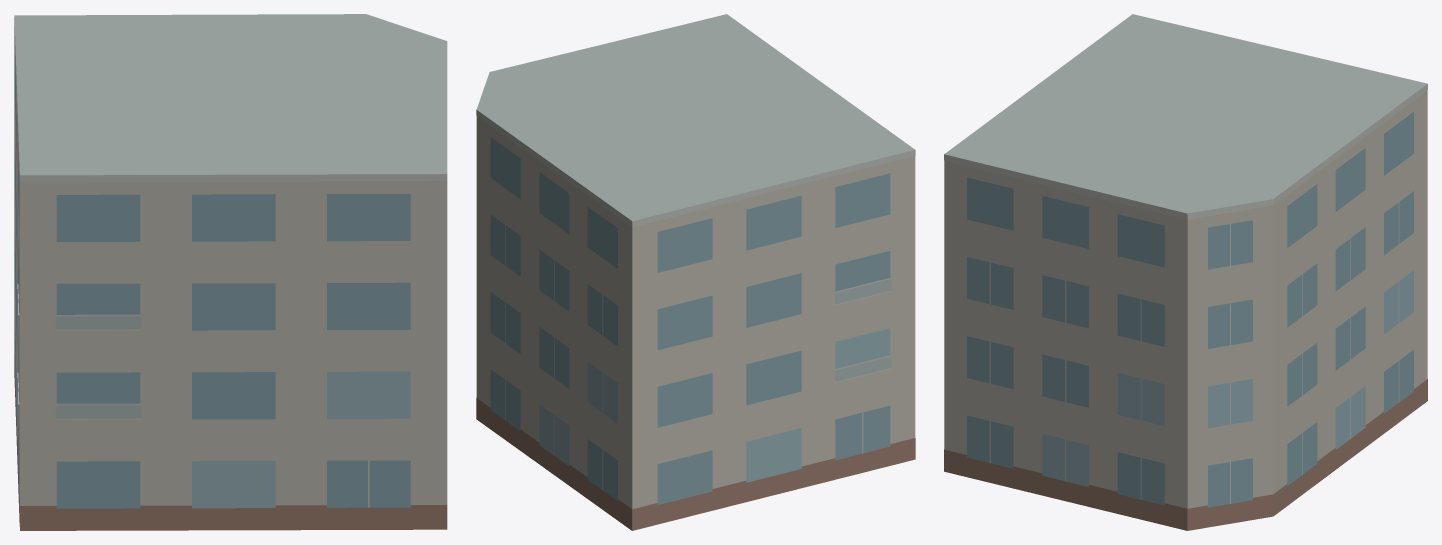
The model's file is survey-upis-32913993.glb.
3 renders of one model, left to right at view 1: azimuth 30°, elevation 25°; view 2: azimuth 150°, elevation 25°; view 3: azimuth 270°, elevation 25°, orthographic. The views are drawn at different scales.
Parts seen in each view (by area): view 1: survey-upis-32913993.tmp; view 2: survey-upis-32913993.tmp; view 3: survey-upis-32913993.tmp.
Boxes of the visible parts, bbox=[...] form: survey-upis-32913993.tmp: bbox=[14, 14, 447, 530]; survey-upis-32913993.tmp: bbox=[476, 14, 915, 530]; survey-upis-32913993.tmp: bbox=[944, 14, 1427, 530].
Size of the model in its own units: 16.73 by 12.4 by 17.14.
